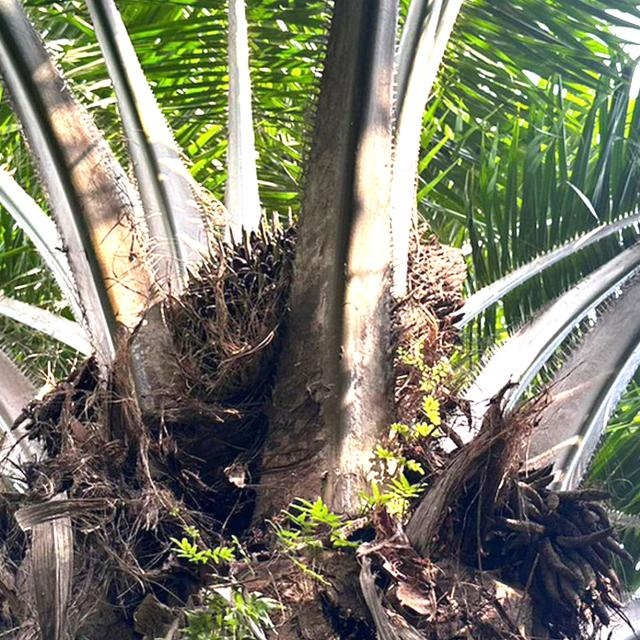unripe: (164, 206, 323, 387)
